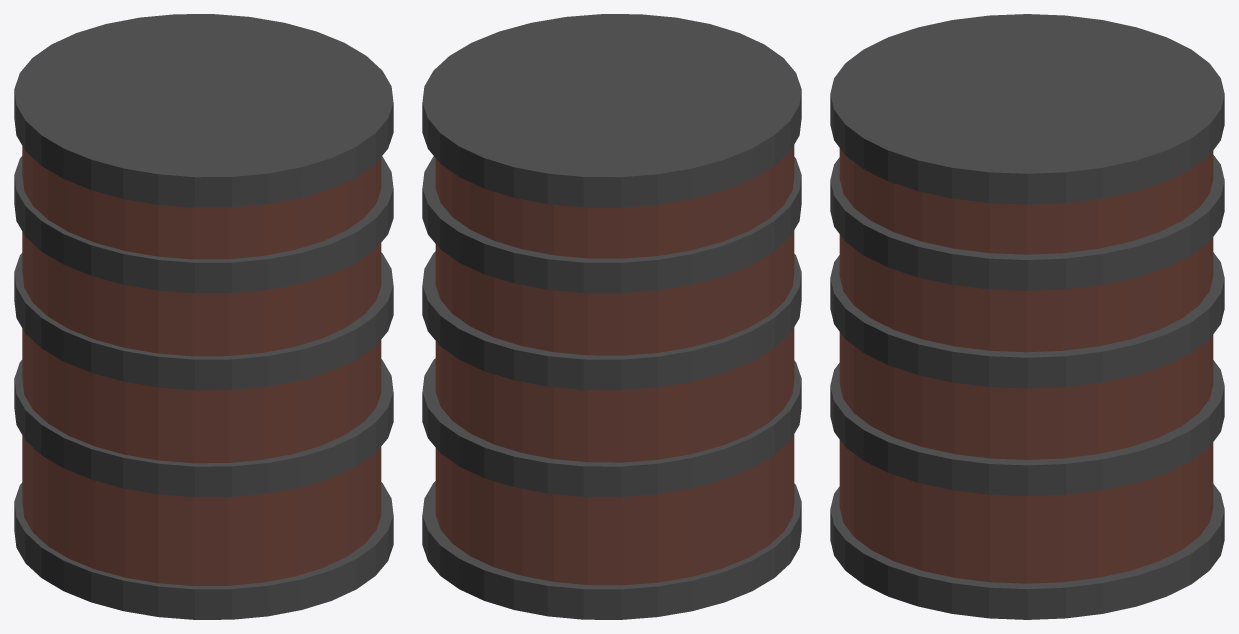
File: woodbarrel2.fbx
3 views of the same model, side by side, from view 1: azimuth 30°, elevation 25°; view 2: azimuth 150°, elevation 25°; view 3: azimuth 270°, elevation 25° (orthographic).
Visible parts, largest first — view 1: Cylinder.012, Cylinder.013, Cylinder.016, Cylinder.015, Cylinder.017, Cylinder.014; view 2: Cylinder.012, Cylinder.013, Cylinder.016, Cylinder.015, Cylinder.014, Cylinder.017; view 3: Cylinder.012, Cylinder.013, Cylinder.015, Cylinder.016, Cylinder.017, Cylinder.014.
Part boxes in pixels (x1,y1,x2,y2): Cylinder.012: (22, 146, 381, 585); Cylinder.013: (14, 14, 393, 207); Cylinder.016: (14, 156, 393, 293); Cylinder.015: (14, 252, 393, 390); Cylinder.017: (14, 359, 393, 497); Cylinder.014: (14, 482, 393, 619); Cylinder.012: (435, 145, 794, 585); Cylinder.013: (422, 14, 801, 207); Cylinder.016: (422, 156, 801, 293); Cylinder.015: (422, 251, 801, 390); Cylinder.014: (422, 481, 801, 619); Cylinder.017: (422, 358, 801, 497); Cylinder.012: (839, 148, 1213, 583); Cylinder.013: (830, 14, 1224, 204); Cylinder.015: (830, 252, 1224, 388); Cylinder.016: (830, 155, 1224, 290); Cylinder.017: (830, 360, 1224, 496); Cylinder.014: (830, 484, 1224, 619).
Bounding box in the file's own units: 861 × 1123 × 898.
